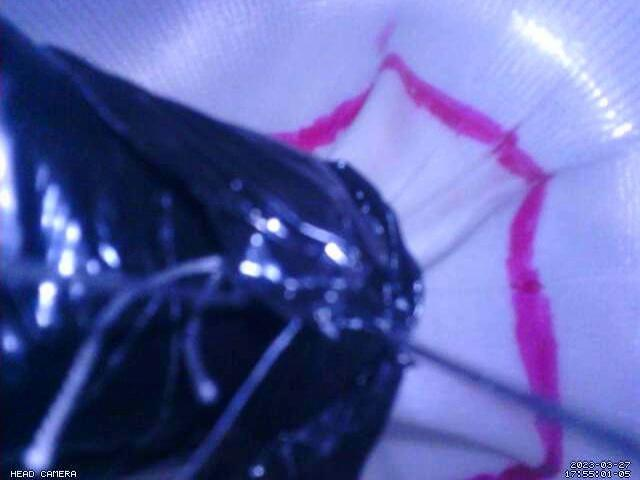red-circle: (269, 51, 564, 480)
